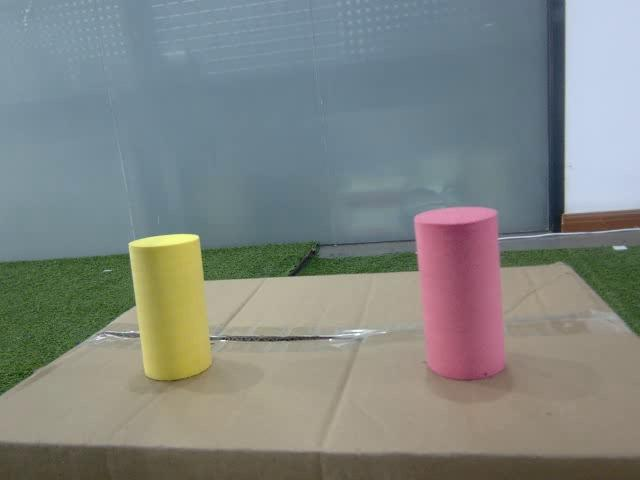red_cylinder: (415, 206, 509, 382)
yellow_cylinder: (126, 234, 212, 379)
